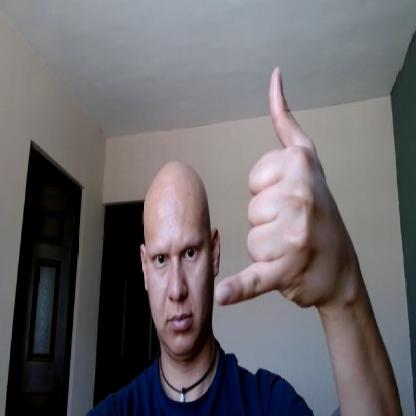Y: (213, 63, 338, 312)
